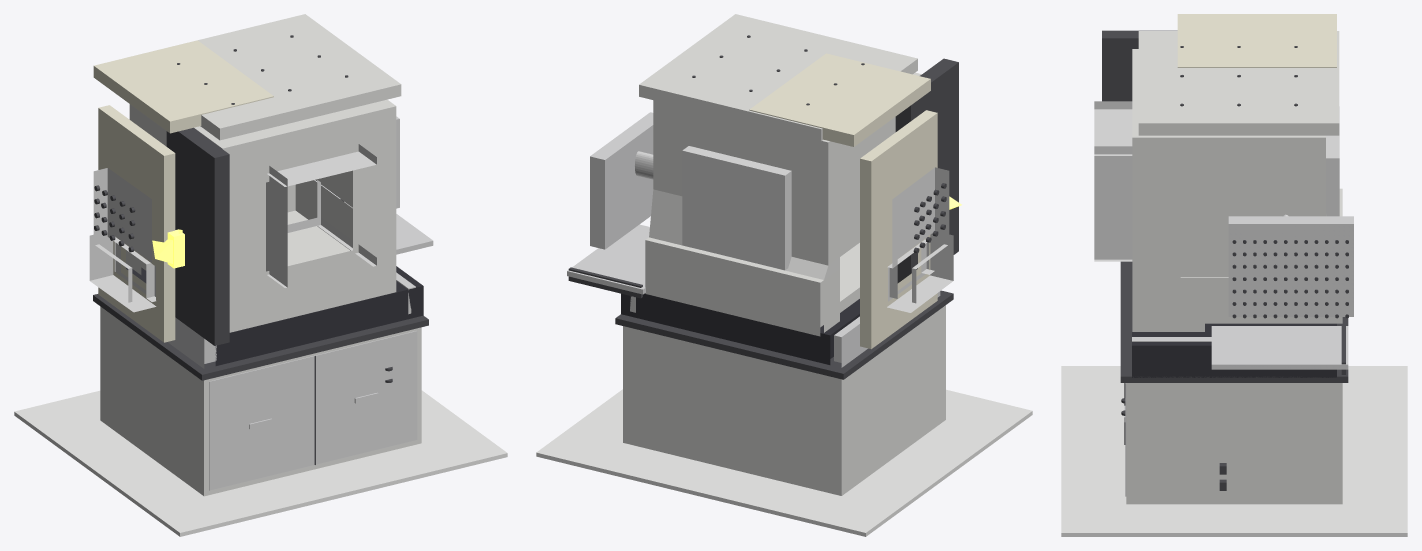
Rendered from scaner (1).glb.
The picture shows the model from 3 angles, left to right: view 1: azimuth 30°, elevation 25°; view 2: azimuth 150°, elevation 25°; view 3: azimuth 270°, elevation 25°; orthographic projection. The views are drawn at different scales.
Parts seen in each view (by area): view 1: Optical_Tower, Base_Seam, Floor, Base_Cabinet, Tower_TopCap, Inner_Frame, Cream_Panel_Top, Cream_Panel_Side, Stage_Slab, Cube.002, Cube, Mid_Rail (+2 smaller); view 2: Base_Cabinet, Optical_Tower, Floor, Tower_TopCap, Cube.001, Cream_Panel_Side, Cream_Panel_Top, Cube.002, Vent_Panel, Stage_Slab, Inner_Frame, Mid_Rail (+3 smaller); view 3: Floor, Optical_Tower, Base_Cabinet, Tower_TopCap, Vent_Panel, Cream_Panel_Top, Cube, Right_Tray, Stage_Slab, Mid_Rail, Inner_Frame, Cube.001.
Part boxes in pixels (left/top/right/bottom): Optical_Tower: left=126, top=99, right=396, bottom=332; Base_Seam: left=209, top=331, right=417, bottom=490; Floor: left=14, top=390, right=507, bottom=536; Base_Cabinet: left=100, top=306, right=421, bottom=496; Tower_TopCap: left=198, top=14, right=401, bottom=140; Inner_Frame: left=166, top=128, right=229, bottom=345; Cream_Panel_Top: left=93, top=40, right=273, bottom=133; Cream_Panel_Side: left=98, top=105, right=175, bottom=342; Stage_Slab: left=126, top=266, right=423, bottom=365; Cube.002: left=89, top=168, right=156, bottom=312; Cube: left=266, top=144, right=376, bottom=287; Mid_Rail: left=93, top=294, right=428, bottom=380; Base_Cabinet: left=623, top=305, right=945, bottom=495; Optical_Tower: left=645, top=72, right=921, bottom=336; Floor: left=536, top=389, right=1032, bottom=536; Tower_TopCap: left=639, top=14, right=917, bottom=141; Cube.001: left=682, top=146, right=791, bottom=270; Cream_Panel_Side: left=860, top=110, right=937, bottom=349; Cream_Panel_Top: left=749, top=53, right=930, bottom=146; Cube.002: left=887, top=167, right=953, bottom=312; Vent_Panel: left=590, top=112, right=653, bottom=249; Stage_Slab: left=621, top=293, right=859, bottom=364; Inner_Frame: left=895, top=58, right=958, bottom=282; Mid_Rail: left=615, top=290, right=953, bottom=379; Floor: left=1061, top=366, right=1407, bottom=536; Optical_Tower: left=1132, top=49, right=1342, bottom=331; Base_Cabinet: left=1126, top=383, right=1342, bottom=504; Tower_TopCap: left=1138, top=31, right=1339, bottom=135; Vent_Panel: left=1228, top=216, right=1353, bottom=316; Cream_Panel_Top: left=1177, top=14, right=1336, bottom=67; Cube: left=1094, top=101, right=1132, bottom=261; Right_Tray: left=1211, top=326, right=1348, bottom=369; Stage_Slab: left=1132, top=262, right=1336, bottom=377; Mid_Rail: left=1120, top=261, right=1348, bottom=382; Inner_Frame: left=1102, top=30, right=1177, bottom=101; Cube.001: left=1326, top=106, right=1339, bottom=216.
Bounding box in the file's own units: 1.73 × 1.91 × 1.52.
